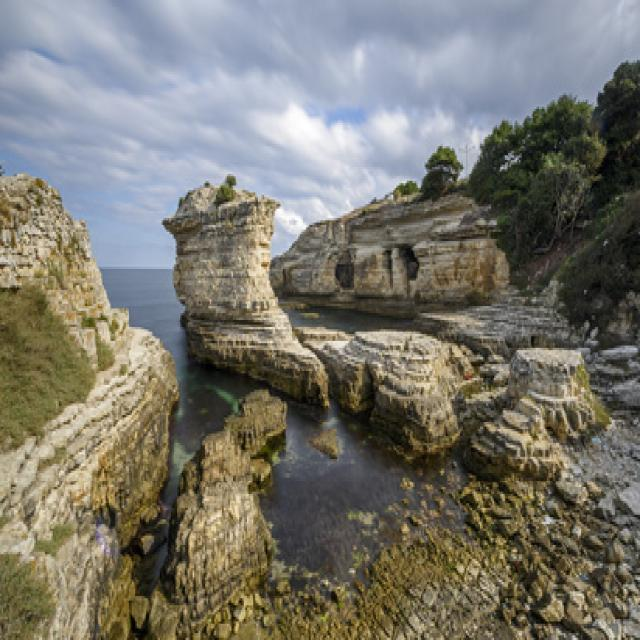reef: (153, 215, 554, 548)
